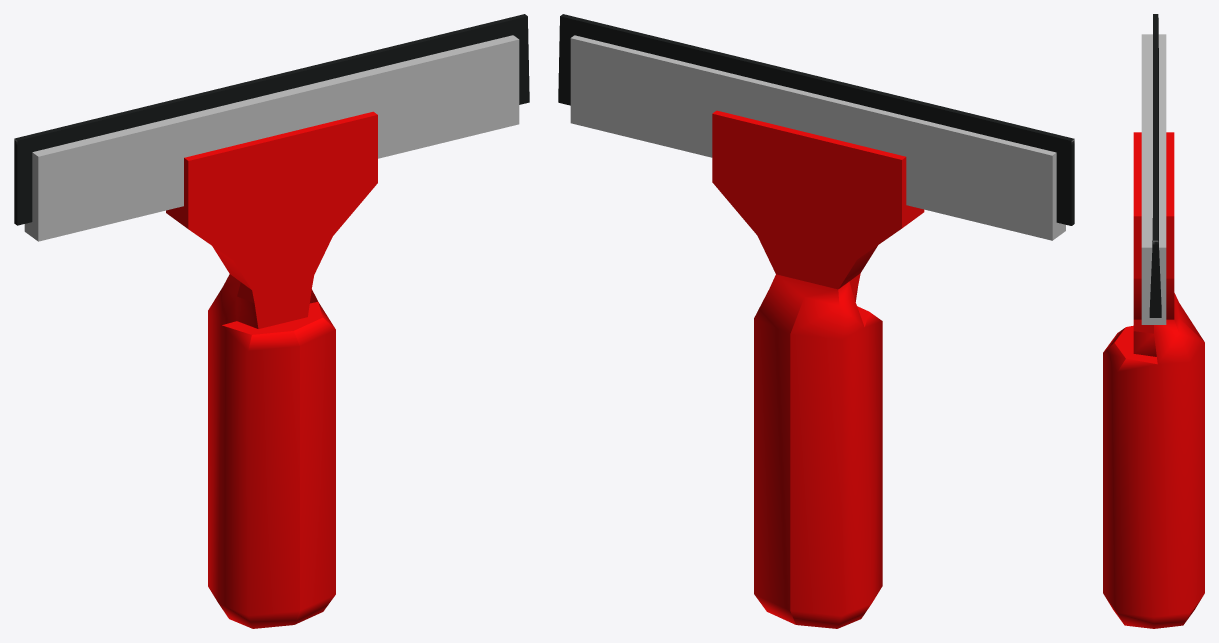
Rendered from Squidgee_01.fbx.
3 views of the same model, side by side, from view 1: azimuth 30°, elevation 25°; view 2: azimuth 150°, elevation 25°; view 3: azimuth 270°, elevation 25° (orthographic). The views are drawn at different scales.
Visible parts, largest first — view 1: Squidgee_01; view 2: Squidgee_01; view 3: Squidgee_01.
Boxes of the visible parts, x1=… form: Squidgee_01: x1=14, y1=14, x2=529, y2=628; Squidgee_01: x1=558, y1=14, x2=1074, y2=628; Squidgee_01: x1=1103, y1=14, x2=1204, y2=628.
Bounding box in the file's own units: 0.9367 × 0.9503 × 0.1779.
1 material, 1 textured.
